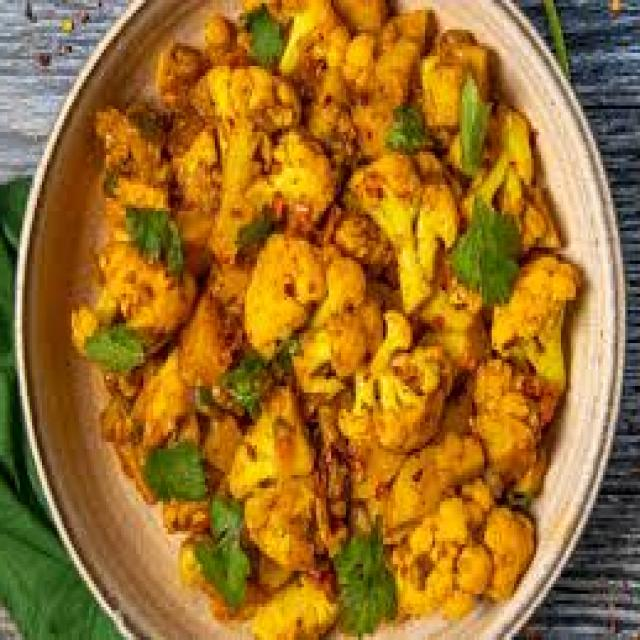Aloo Gobi: (256, 160, 477, 502)
